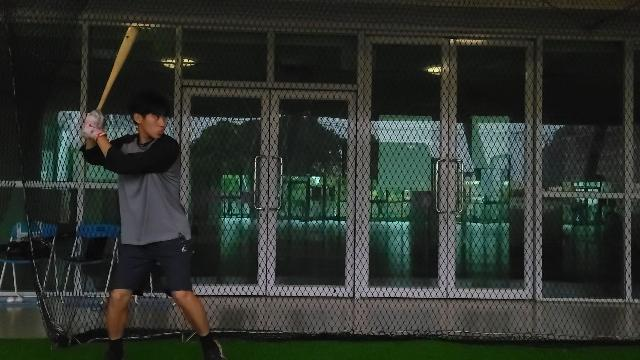bat: (95, 24, 142, 114)
